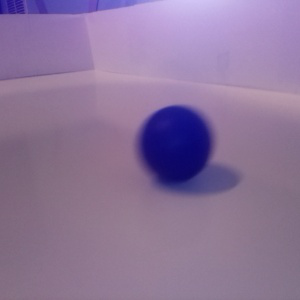dead_ball: (138, 105, 212, 184)
